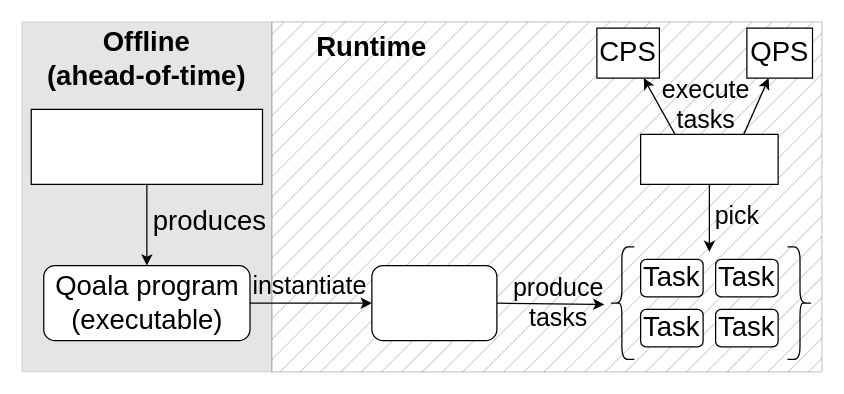
Some shapes in this 844 by 394 pixel diagram are drawn without their labels. Each missing label, with the box of its shape:
Program Instance: (371, 264, 497, 341)
Scheduler: (639, 133, 778, 184)
SDK including compiler: (30, 108, 262, 184)
